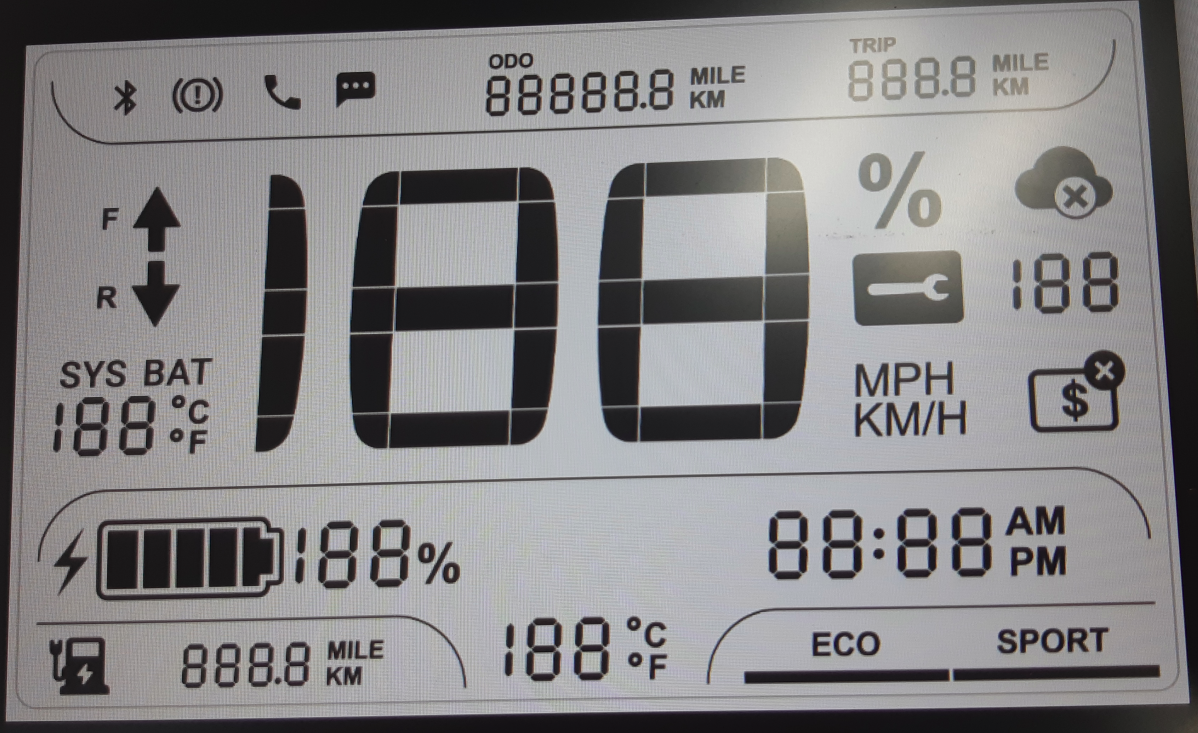bluetooth_on: (106, 76, 143, 121)
braking_on: (169, 73, 226, 116)
calling_on: (260, 70, 305, 112)
connection_lost: (1009, 144, 1120, 223)
error_code: (849, 248, 968, 329)
low_battery: (45, 630, 117, 701)
sms_on: (330, 69, 380, 113)
vin_id: (1024, 348, 1129, 438)
